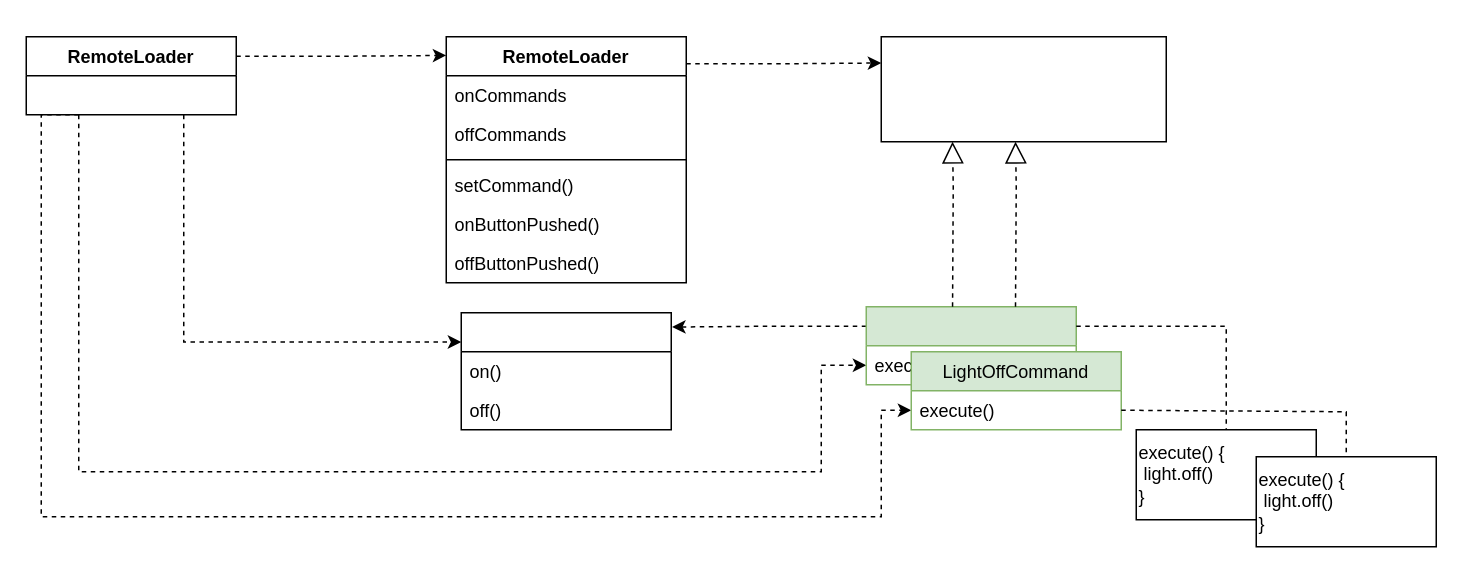
The diagram is 1463 pixels wide and 573 high, and some of its shapes have lost their labels. The shapes that lost their labels are listed below. From the top down, each one's box as (x1, y1, x2, y2) in pixels, then its label:
(880, 35, 1166, 142): <<Interface>> Command execute()
(865, 305, 1076, 385): LightOnCommand
(460, 311, 671, 430): Light
